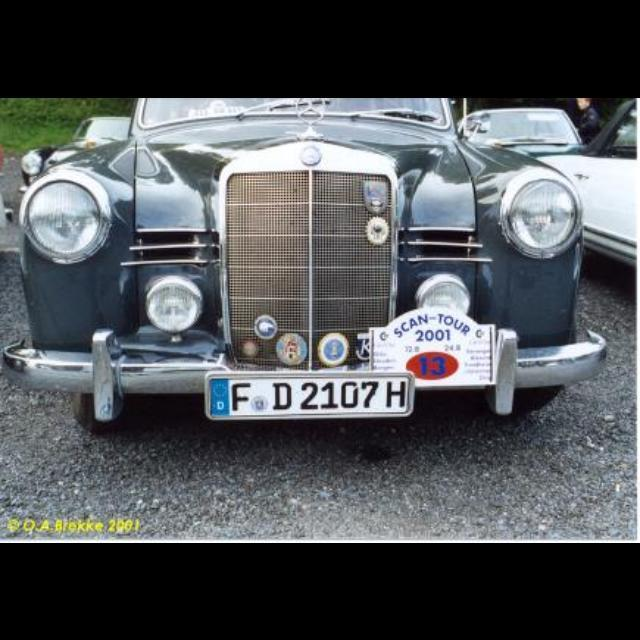license-plates: (205, 374, 415, 421)
